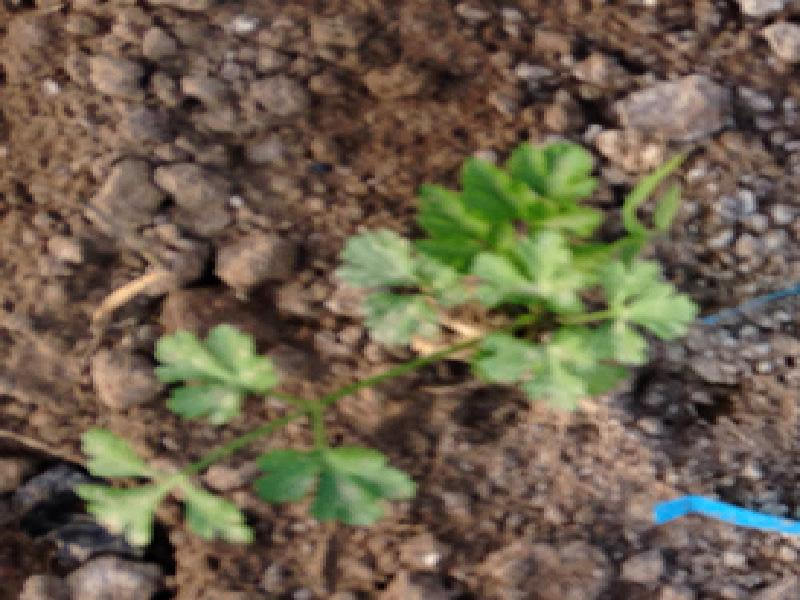radish: (56, 0, 800, 600)
